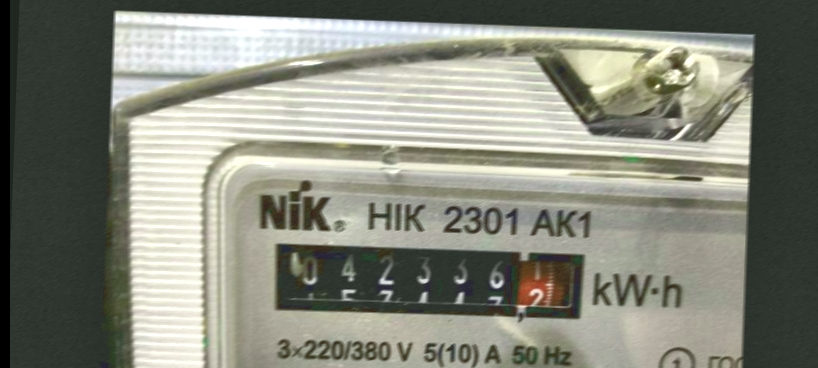0: (300, 255, 320, 289)
1: (530, 258, 543, 284)
2: (376, 254, 398, 289), (526, 289, 544, 311)
3: (413, 255, 432, 287), (452, 256, 470, 289)
4: (340, 253, 358, 286)
6: (487, 259, 508, 294)
screen: (261, 231, 599, 334)
